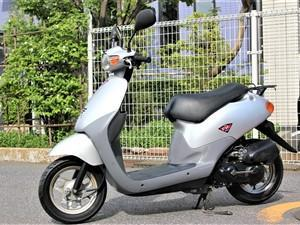motorbike: (38, 8, 297, 225)
